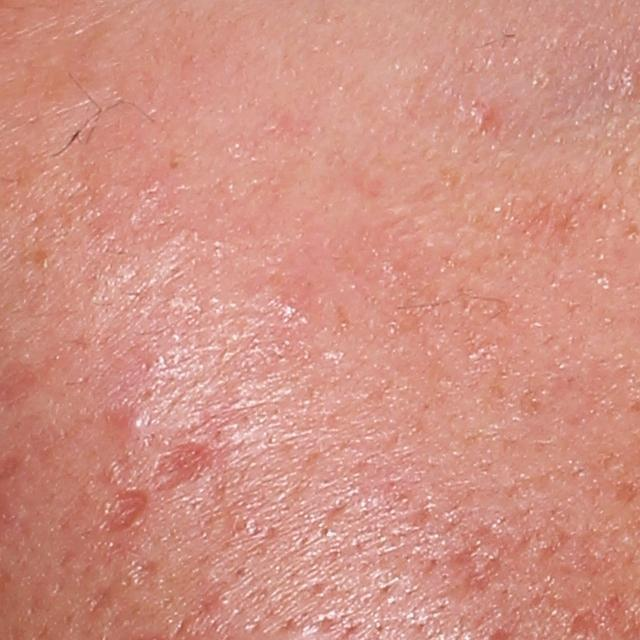atrophic_scar: (439, 519, 534, 597), (149, 441, 219, 496), (97, 486, 157, 535), (119, 557, 172, 589)
